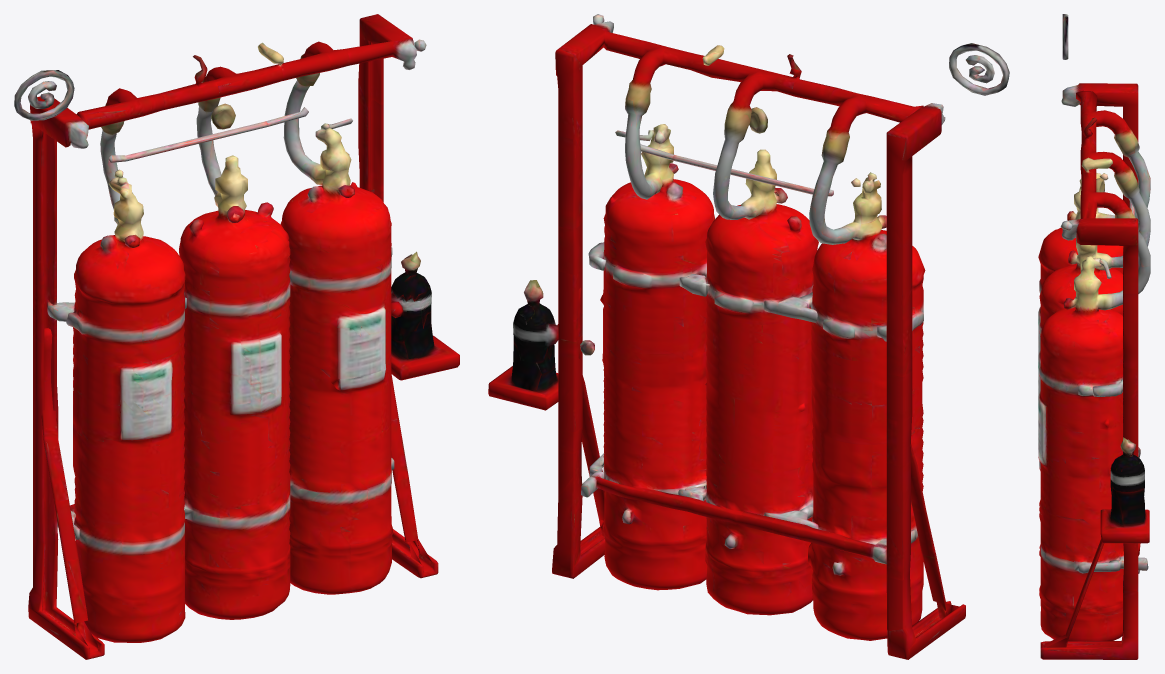
File: gas_cabinet.glb
3 renders of one model, left to right at view 1: azimuth 30°, elevation 25°; view 2: azimuth 150°, elevation 25°; view 3: azimuth 270°, elevation 25°, orthographic. The views are drawn at different scales.
Bounding box in the file's own units: 1.59 × 1.91 × 0.3953.
1 material, 1 textured.
